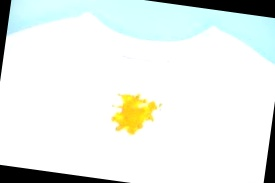mustard: (108, 92, 165, 138)
